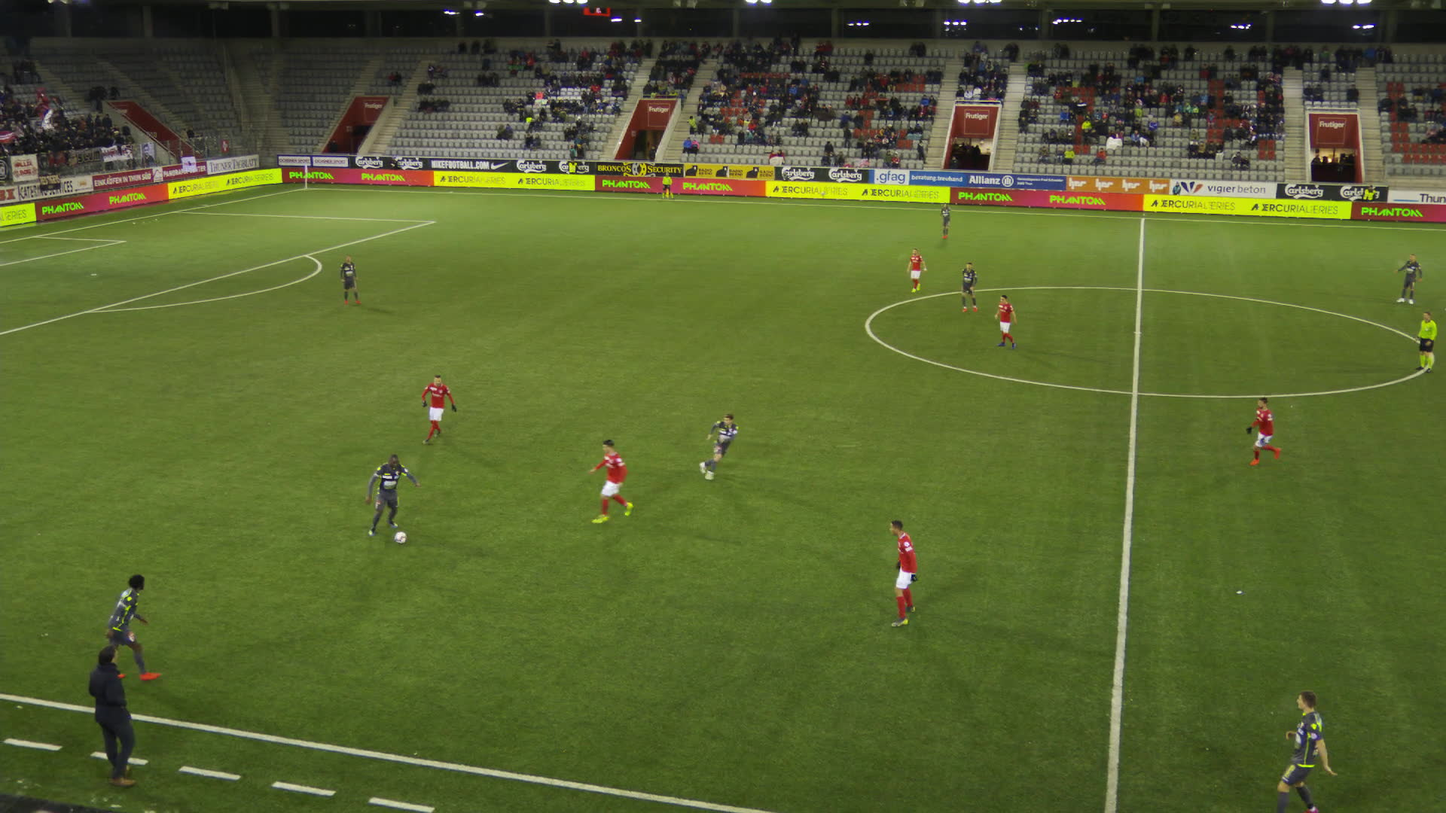ball: (395, 531, 407, 543)
player: (1277, 688, 1336, 812), (104, 574, 162, 681), (364, 452, 420, 537), (587, 440, 633, 523), (889, 519, 919, 626), (699, 413, 738, 480), (1246, 396, 1282, 467), (421, 373, 456, 444), (1393, 254, 1422, 304), (993, 296, 1016, 350), (339, 254, 362, 305), (905, 248, 925, 292), (959, 262, 976, 313), (938, 202, 950, 238), (1444, 307, 1445, 311)
referee: (1413, 312, 1436, 373), (660, 172, 674, 199)
